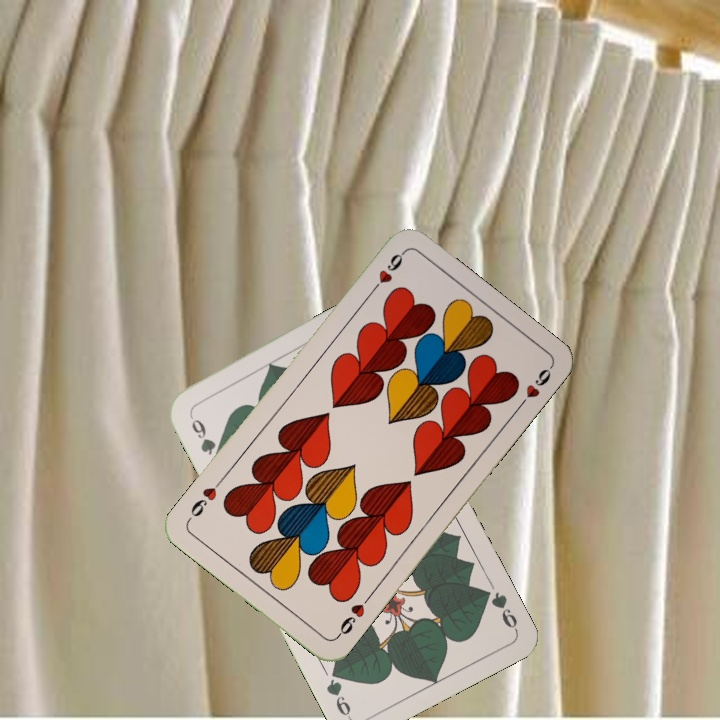G9: (476, 584, 520, 633), (185, 408, 226, 459)
H9: (365, 247, 407, 298), (332, 591, 374, 641)
